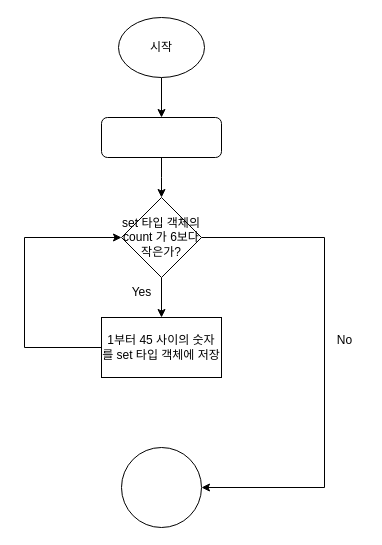
Image size: 382x545. Some labels were removed from this diagram. The shapes that lost their labels are listed below. From the top down, each one's centre as x and y in pixels, then its label:
the point at 161,137: int 타입을 가지는 빈 set 객체 생성
the point at 161,487: 종료
